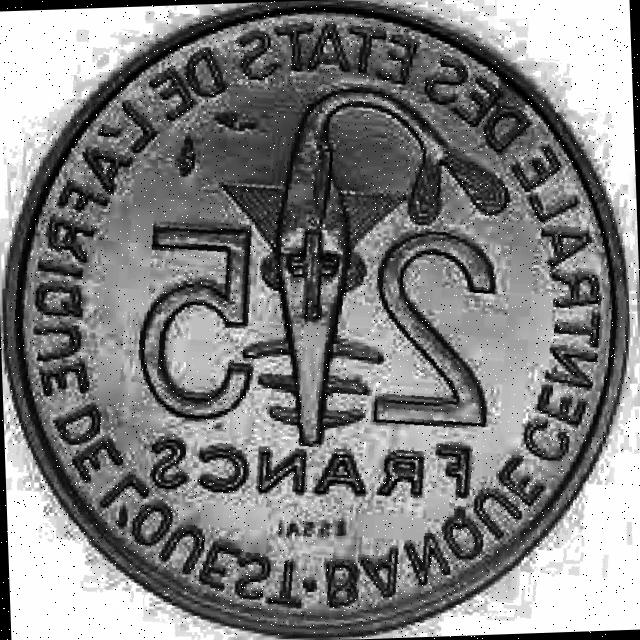juroom derem: (4, 2, 626, 634)
